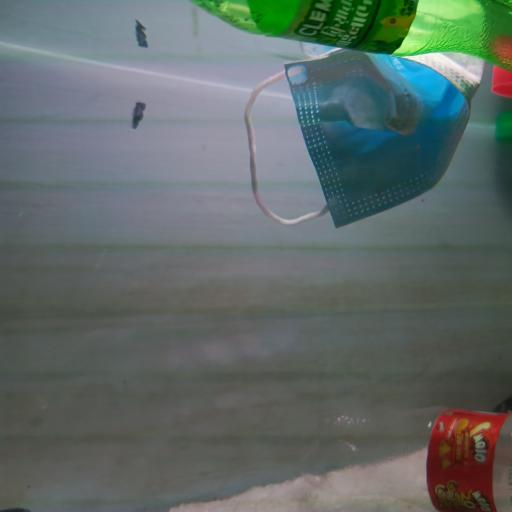bottle_cap: (495, 42, 512, 96), (499, 111, 512, 139)
mask: (242, 42, 478, 232)
plastic_bottle: (284, 401, 512, 512), (186, 0, 512, 66)
